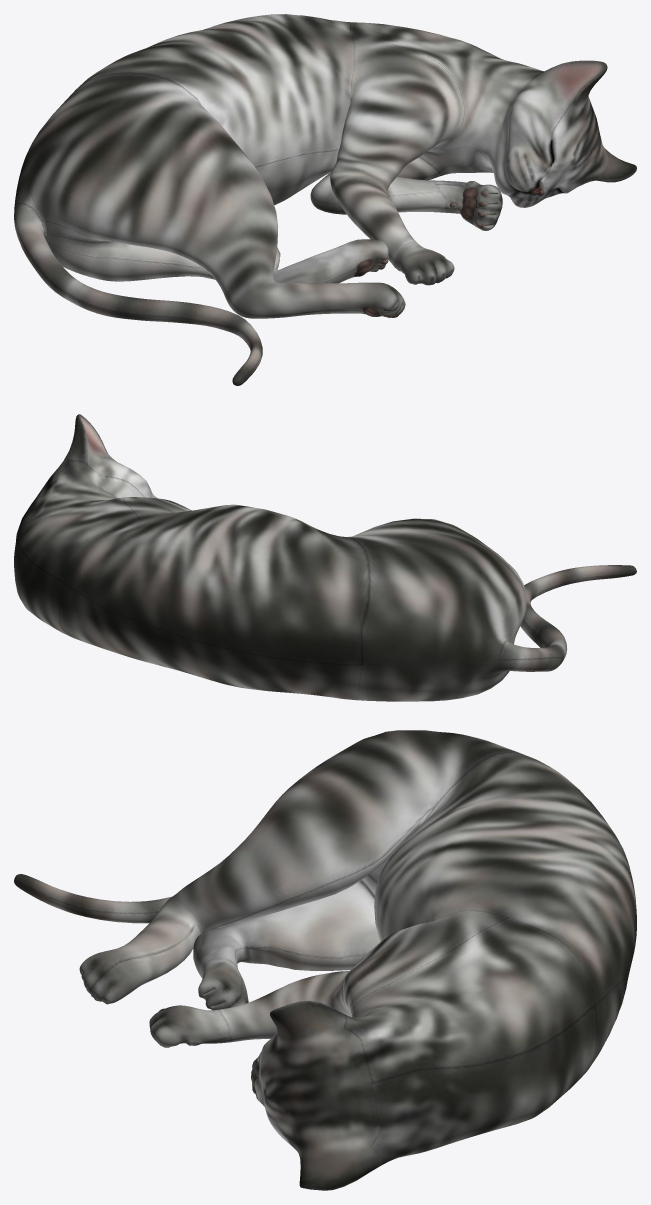
The model's file is cat.glb.
3 views of the same model, one above another, from view 1: azimuth 30°, elevation 25°; view 2: azimuth 150°, elevation 25°; view 3: azimuth 270°, elevation 25° (orthographic). The views are drawn at different scales.
Parts seen in each view (by area): view 1: cat_cat1222_0, cat_cat223_0; view 2: cat_cat1222_0; view 3: cat_cat1222_0.
Part boxes in pixels (x1,y1,x2,y2): cat_cat1222_0: (14,14,636,385); cat_cat223_0: (354,181,544,317); cat_cat1222_0: (14,414,636,701); cat_cat1222_0: (14,730,636,1190).
Bounding box in the file's own units: 0.4476 × 0.1156 × 0.3433.
Materials: 2 (2 with a texture image).
